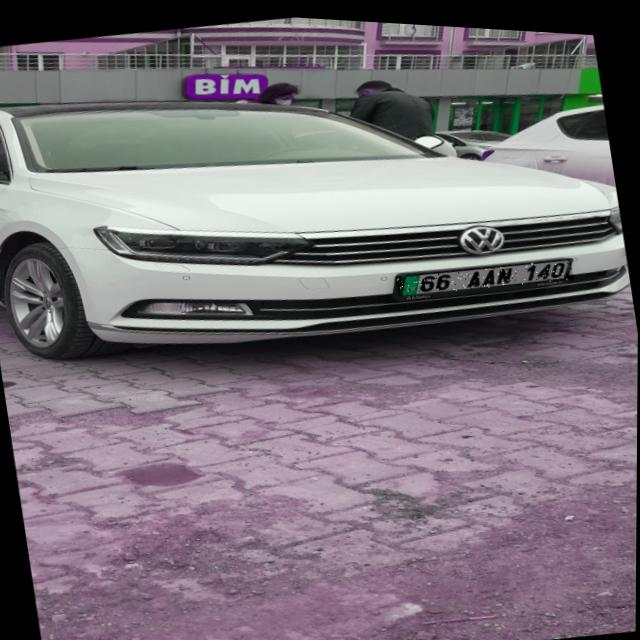license_plate: (396, 244, 574, 300)
